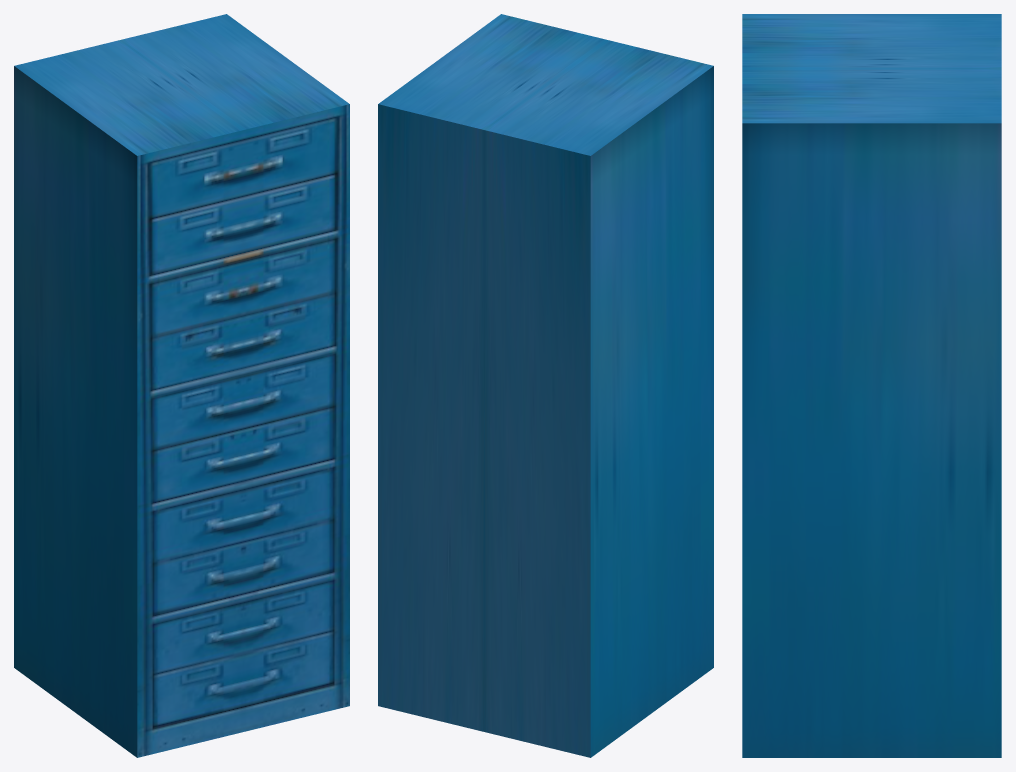
File: filecabinet1.gltf
3 views of the same model, side by side, from view 1: azimuth 30°, elevation 25°; view 2: azimuth 150°, elevation 25°; view 3: azimuth 270°, elevation 25° (orthographic). The views are drawn at different scales.
Parts seen in each view (by area): view 1: Cube; view 2: Cube; view 3: Cube.
Boxes of the visible parts, box(x1,y1,x2,y2) form: Cube: box(14, 14, 349, 757); Cube: box(378, 14, 713, 757); Cube: box(742, 14, 1001, 757).
Size of the model in its own units: 1.12 by 3.02 by 1.12.
1 material, 1 textured.
